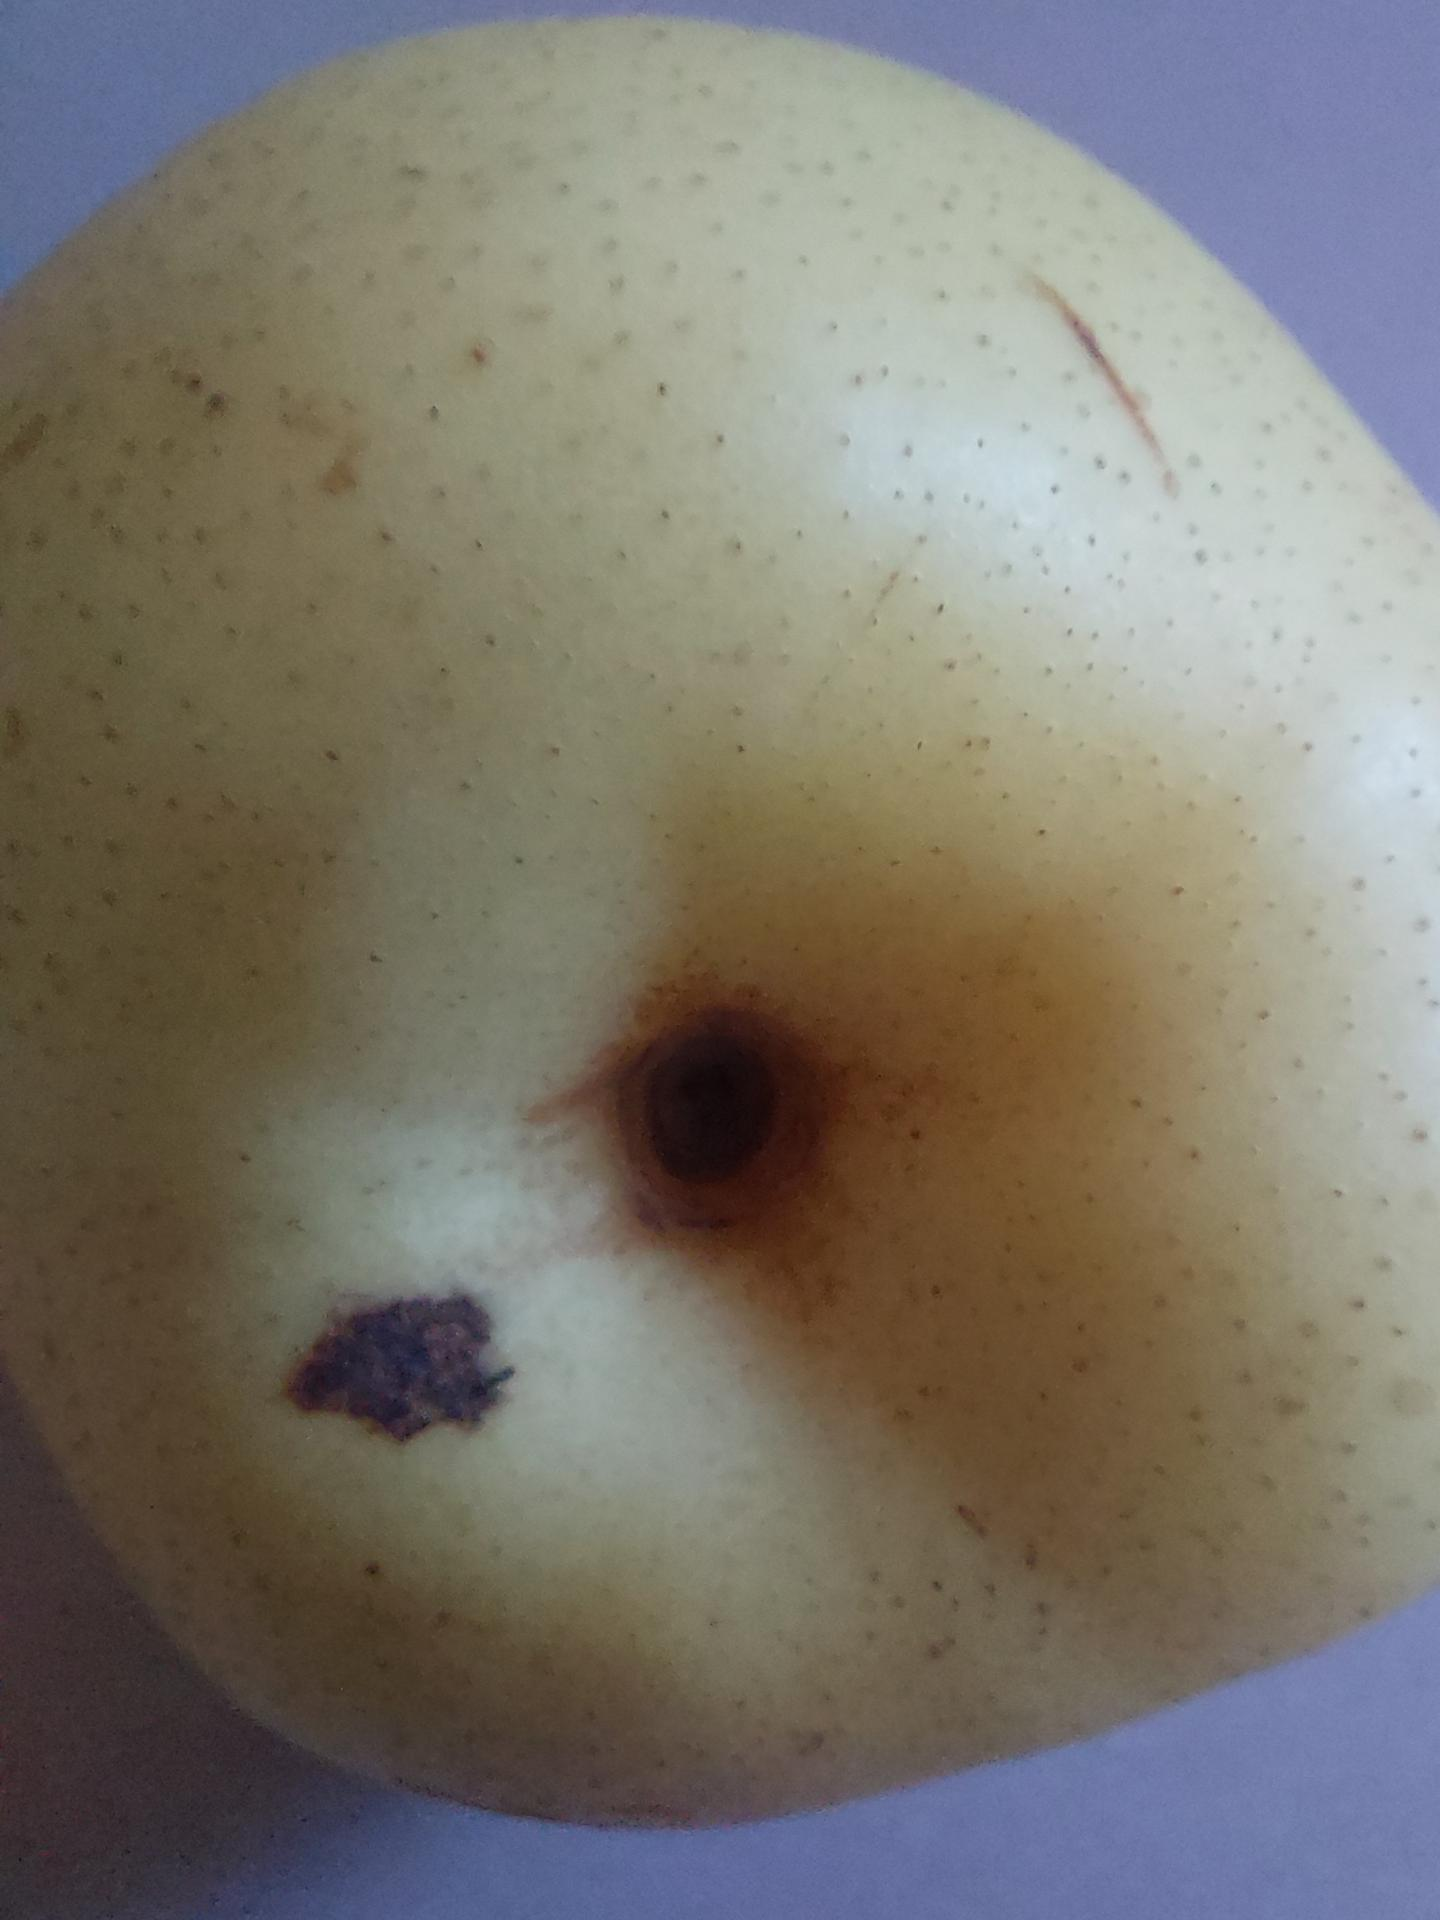Good Pear: (0, 0, 1440, 1847)
